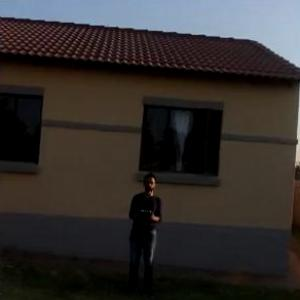follow: (122, 172, 167, 299)
